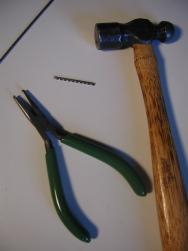hammer: (90, 15, 187, 250)
